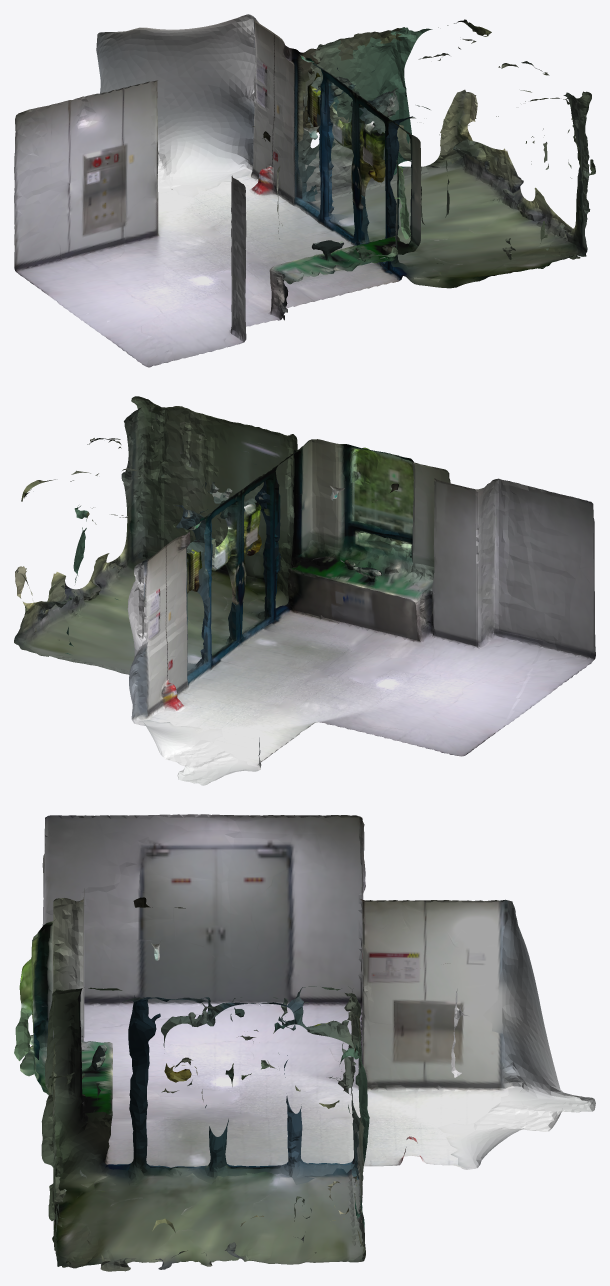
3 views of the same model, one above another, from view 1: azimuth 30°, elevation 25°; view 2: azimuth 150°, elevation 25°; view 3: azimuth 270°, elevation 25° (orthographic). The views are drawn at different scales.
Bounding box in the file's own units: 7.51 × 2.7 × 6.88.
Materials: 1 (1 with a texture image).
